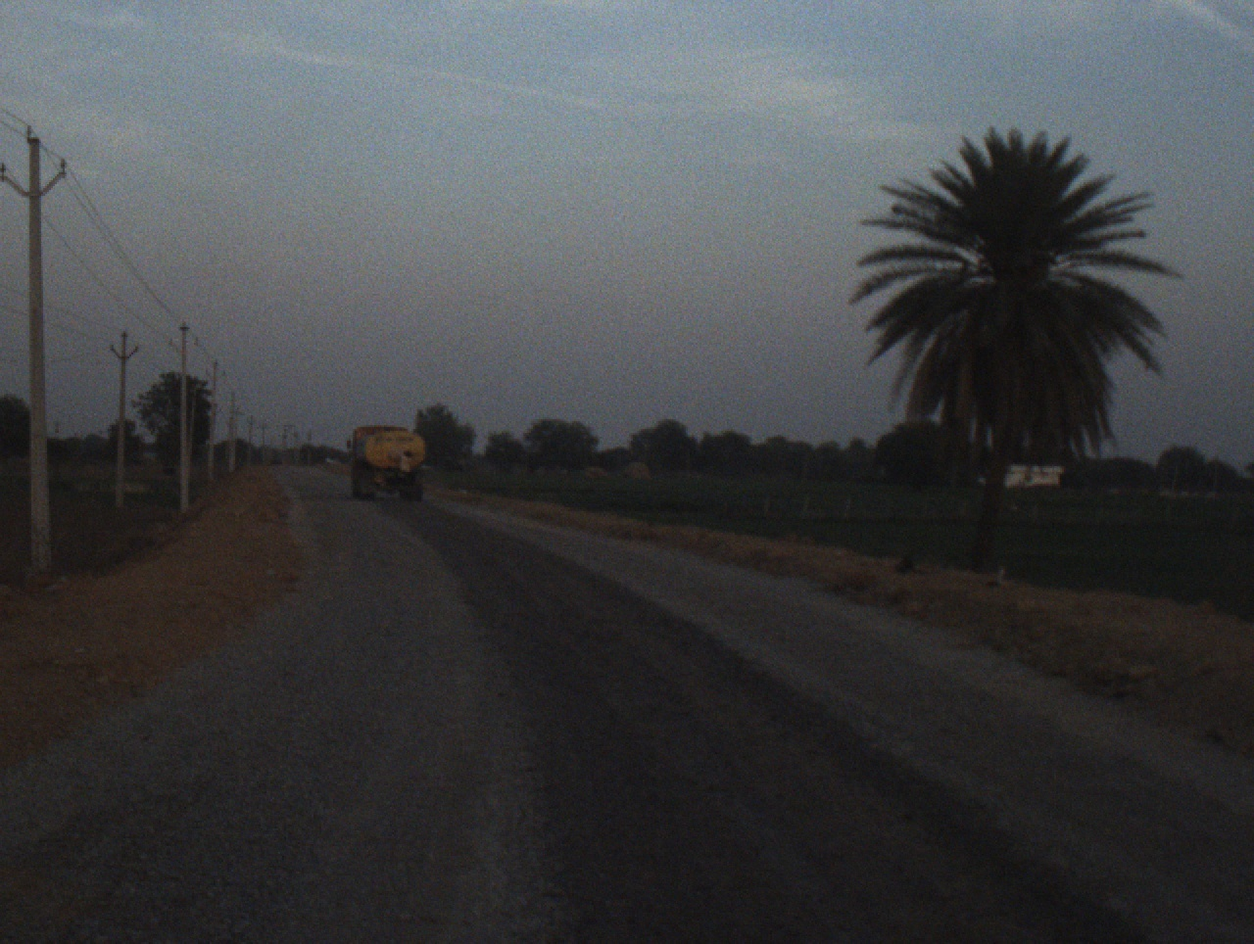truck: (340, 422, 433, 506)
